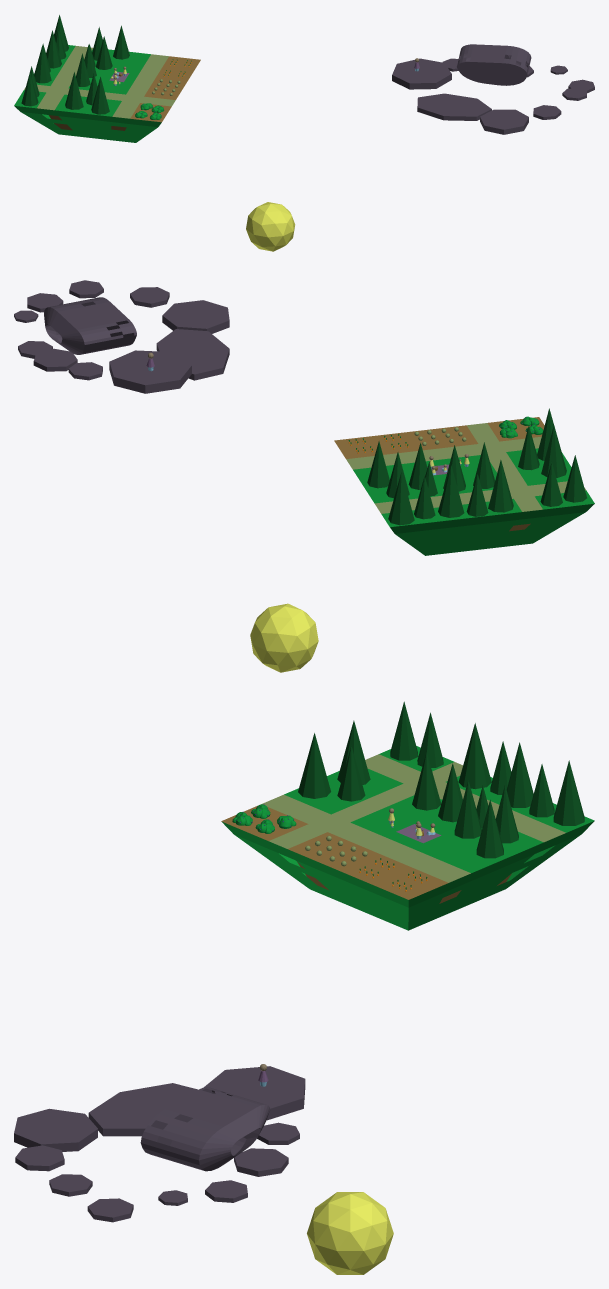
File: project3update.gltf
3 renders of one model, top to bottom at view 1: azimuth 30°, elevation 25°; view 2: azimuth 150°, elevation 25°; view 3: azimuth 270°, elevation 25°, orthographic. The views are drawn at different scales.
Parts seen in each view (by area): view 1: island, Cube, sun, Cylinder.007, Cylinder.013, Cylinder.008, Cone, Cone.005, Cone.007, Cone.008, Cylinder.009, Cone.001 (+2 smaller); view 2: island, Cube, sun, Cylinder.013, Cylinder.007, Cylinder.008, Cylinder.012, Cone.010, Cone.008, Cone.007, Cone, Cylinder.009 (+9 smaller); view 3: island, Cube, sun, Cylinder.007, Cylinder.013, Cylinder.008, Cylinder.012, Cone.005, Cone.007, Cone.010, Cone.008, Cylinder.009 (+14 smaller).
Boxes of the visible parts, x1,y1,x2,y2 form: island: (14,45,200,142); Cube: (457,44,531,85); sun: (246,202,295,251); Cylinder.007: (417,93,491,120); Cylinder.013: (392,58,451,89); Cylinder.008: (480,109,528,134); Cone: (65,72,83,109); Cone.005: (91,77,109,114); Cone.007: (34,45,51,83); Cone.008: (46,30,61,68); Cylinder.009: (533,105,561,119); Cone.001: (21,72,38,106); island: (334,417,594,555); Cube: (44,297,136,354); sun: (250,603,318,672); Cylinder.013: (109,350,191,393); Cylinder.007: (156,329,229,380); Cylinder.008: (162,300,229,333); Cylinder.012: (33,348,77,371); Cone.010: (388,472,414,525); Cone.008: (438,465,464,517); Cone.007: (488,460,513,512); Cone: (541,425,566,477); Cylinder.009: (130,287,169,307); island: (221,746,594,930); Cube: (140,1087,270,1171); sun: (307,1192,393,1274); Cylinder.007: (88,1083,197,1136); Cylinder.013: (204,1066,305,1120); Cylinder.008: (14,1108,97,1151); Cylinder.012: (234,1148,288,1176); Cone.005: (298,733,330,798); Cone.007: (458,723,491,789); Cone.010: (553,760,584,825); Cone.008: (506,742,533,807); Cylinder.009: (15,1145,64,1171).
Bounding box in the file's own units: 89.91 × 39.15 × 53.04.
